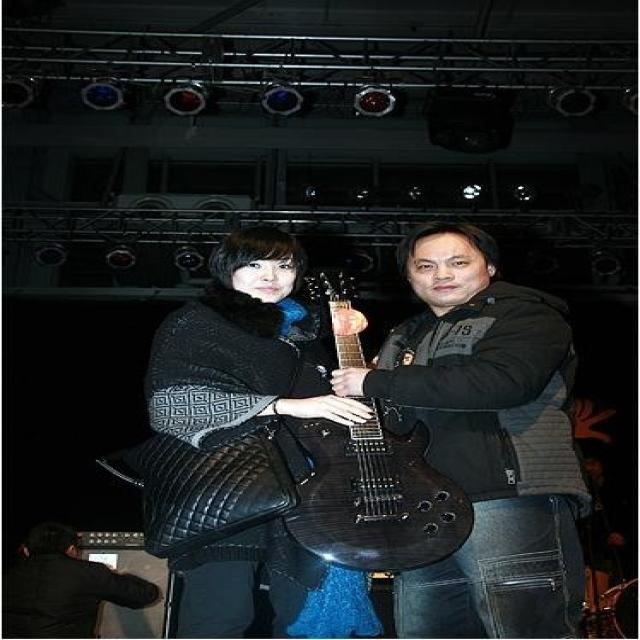guitar: (284, 267, 479, 577)
